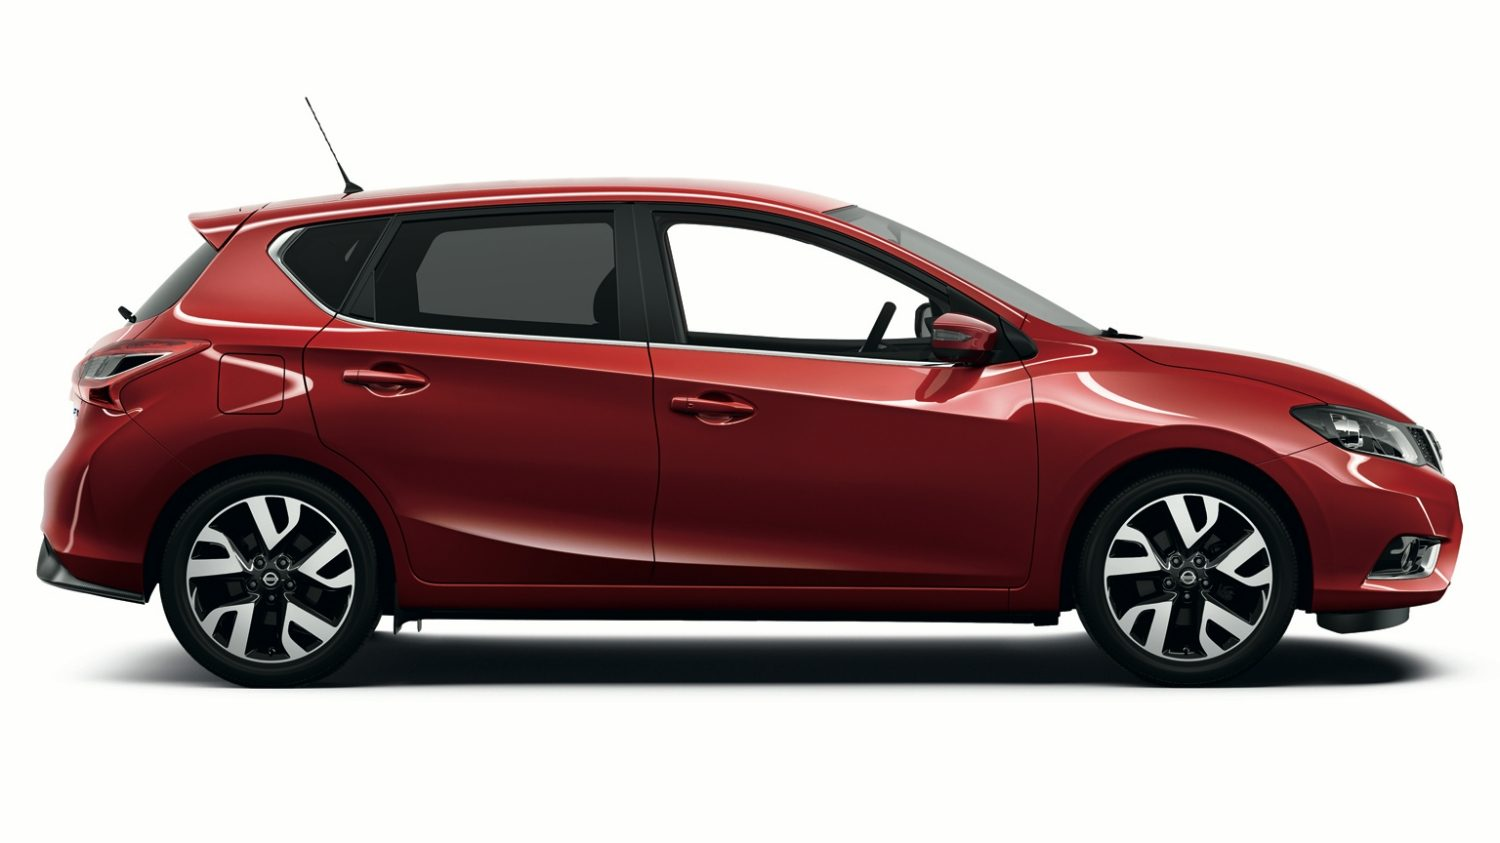car: (19, 63, 1488, 746)
